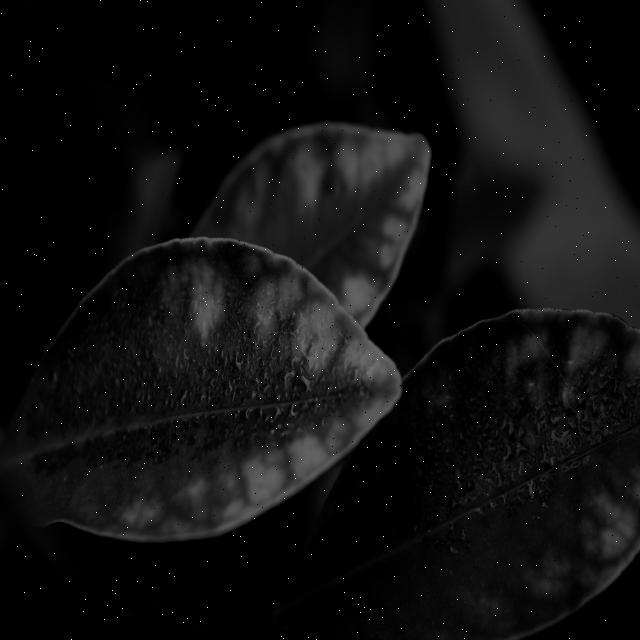greening: (26, 239, 381, 535), (260, 122, 430, 271)
